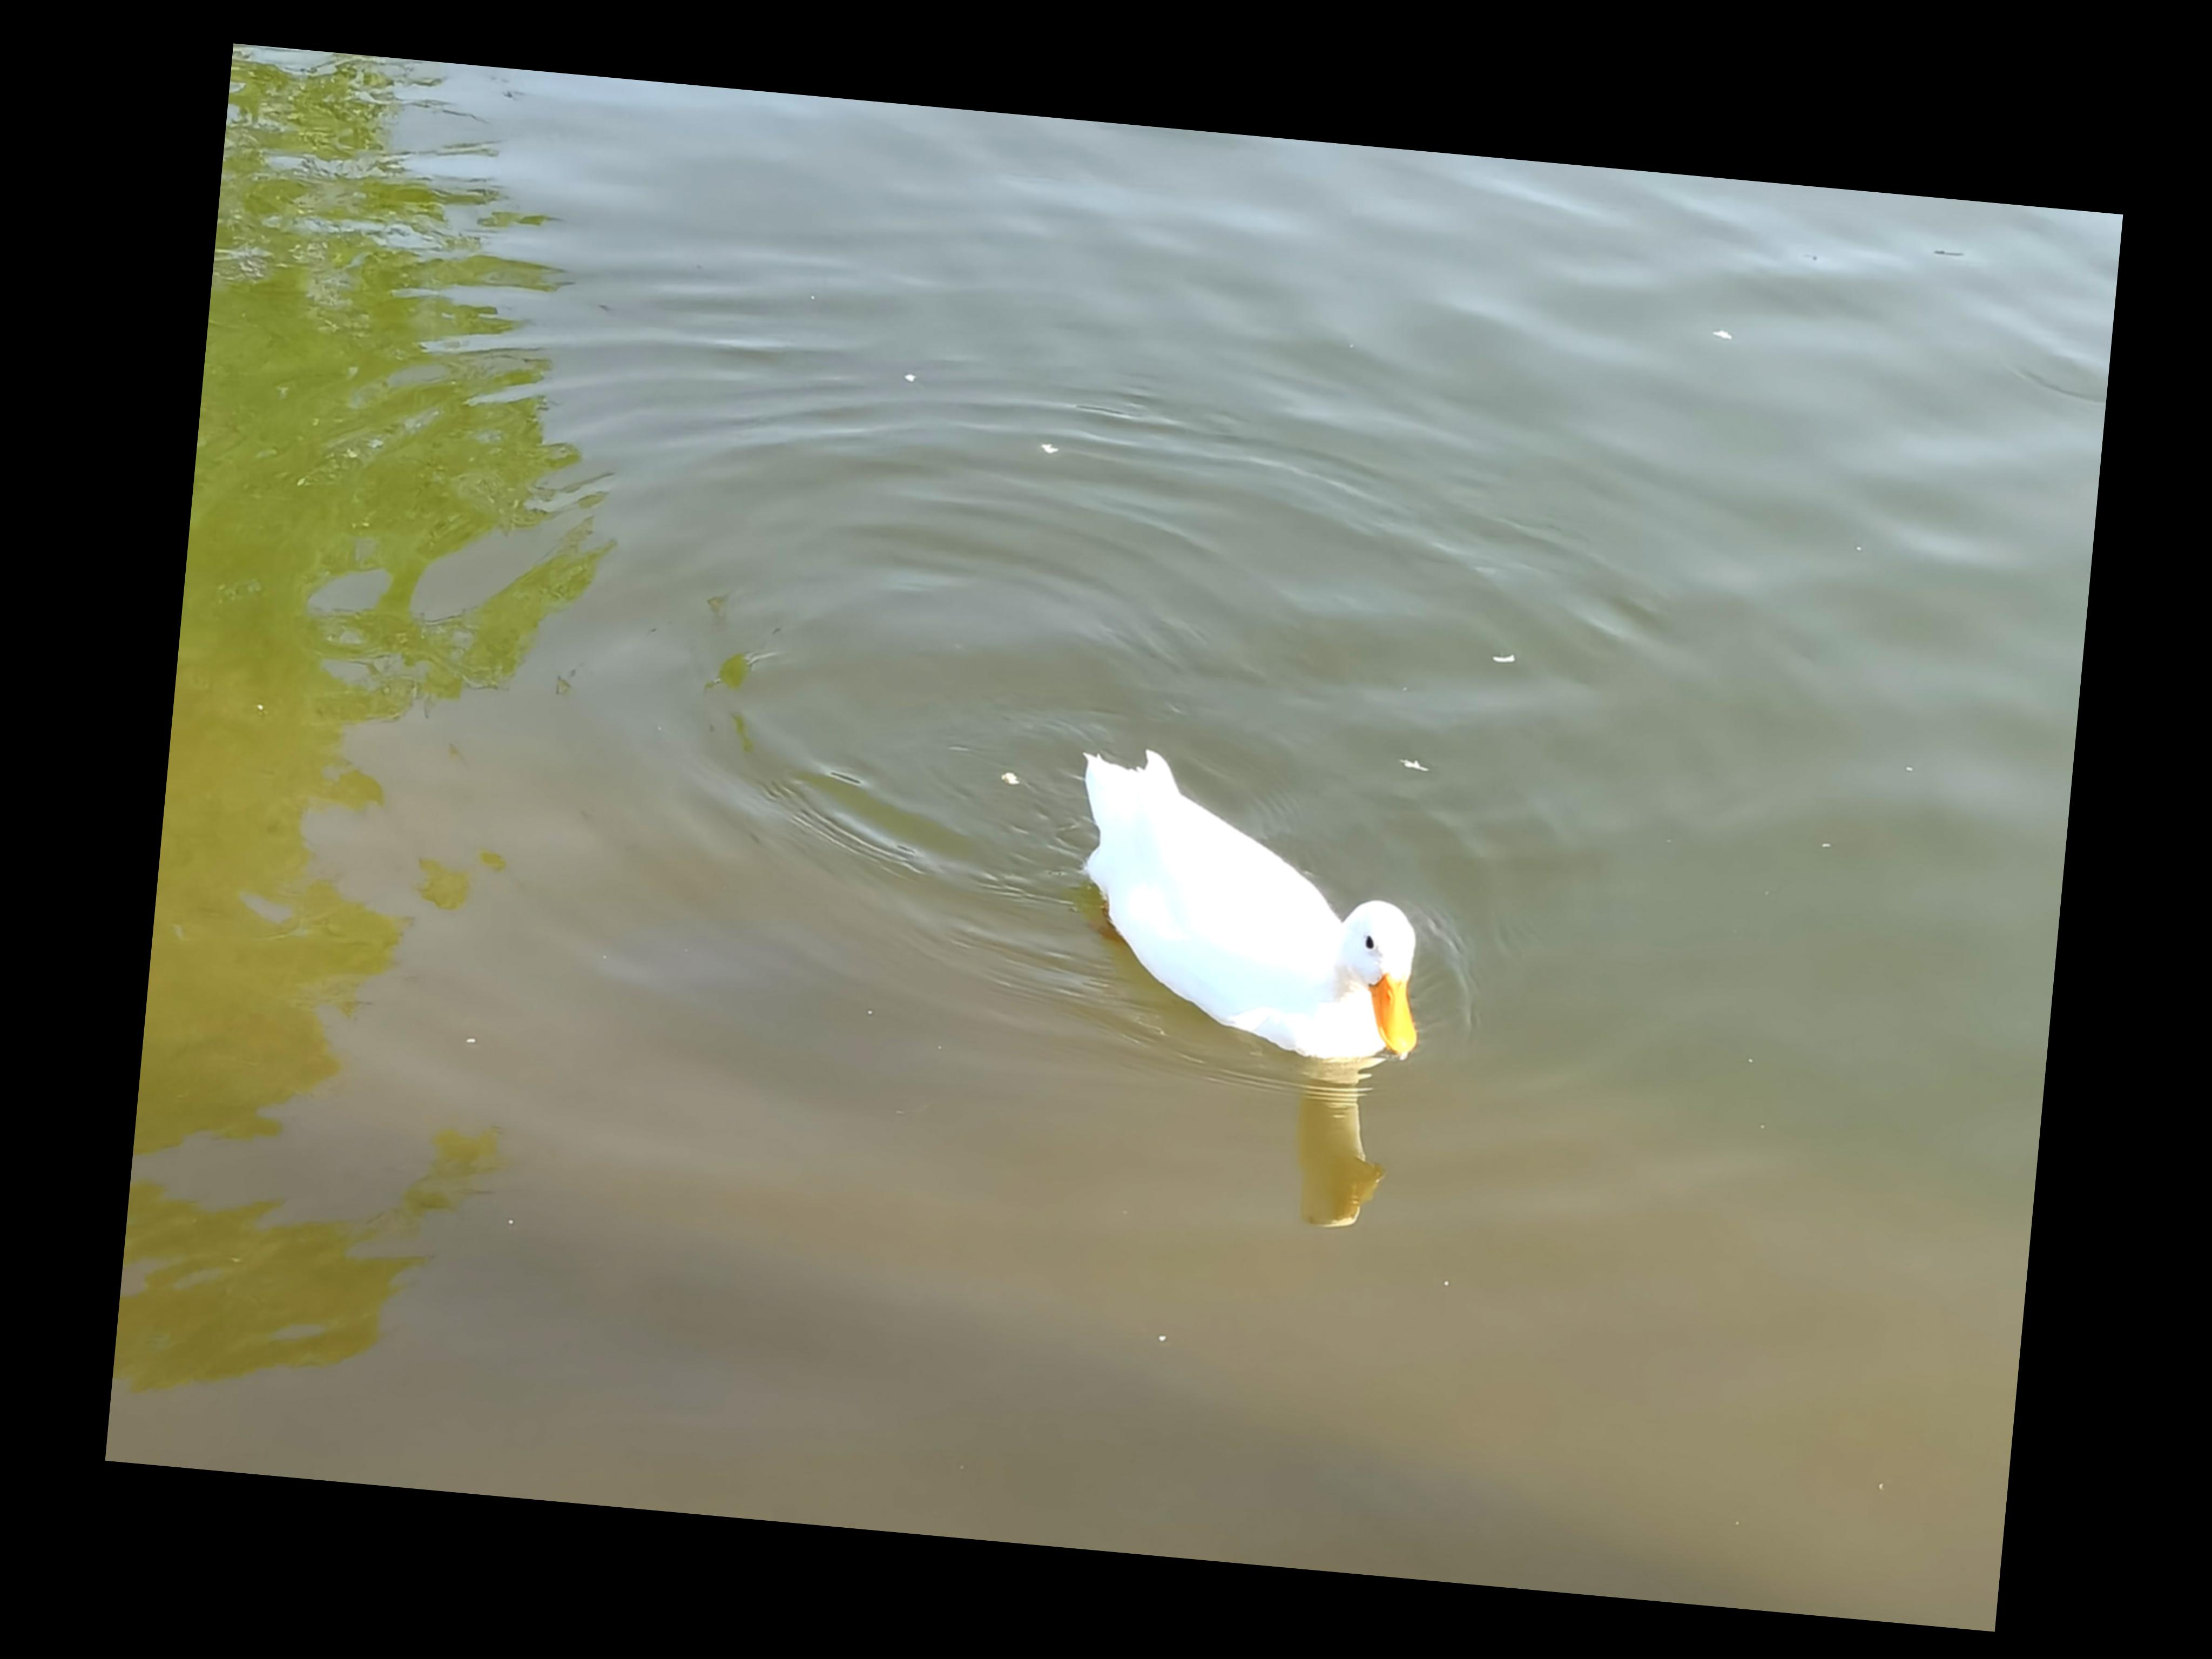duck: (1029, 725, 1475, 1112)
